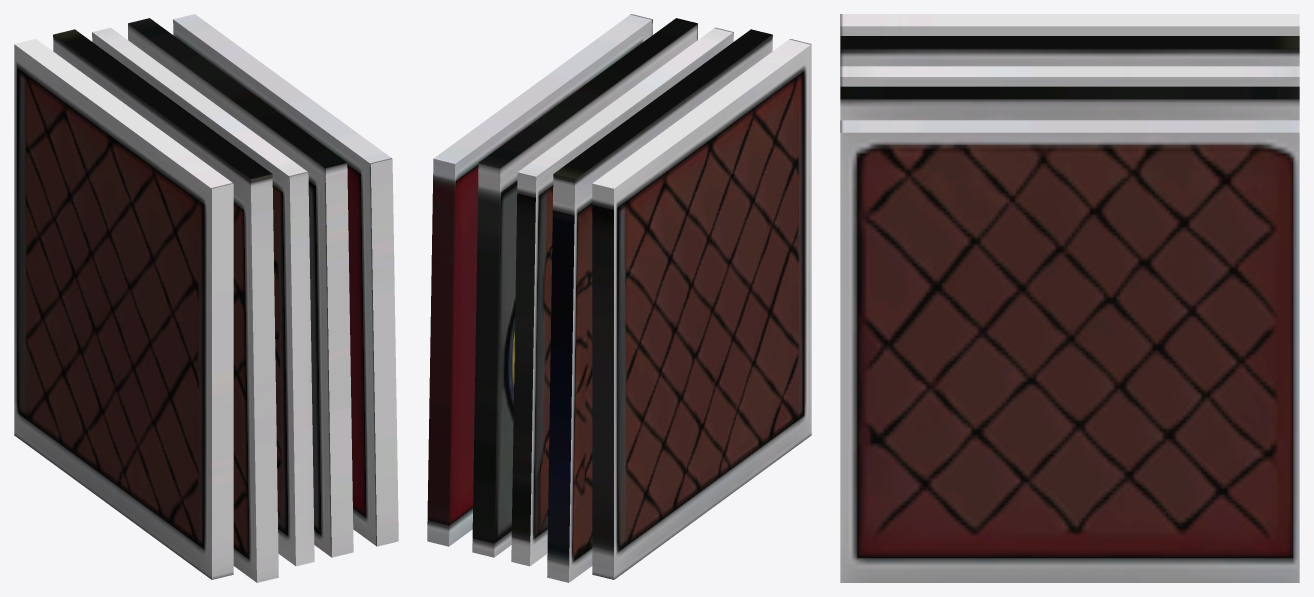
The model's file is Photos.glb.
3 views of the same model, side by side, from view 1: azimuth 30°, elevation 25°; view 2: azimuth 150°, elevation 25°; view 3: azimuth 270°, elevation 25° (orthographic). The views are drawn at different scales.
Visible parts, largest first — view 1: Photos; view 2: Photos; view 3: Photos.
Boxes of the visible parts, box(x1,y1,x2,y2) form: Photos: box(14, 14, 398, 582); Photos: box(427, 14, 811, 582); Photos: box(840, 14, 1299, 582).
Bounding box in the file's own units: 7.64 × 15.83 × 14.
Materials: 1 (1 with a texture image).
